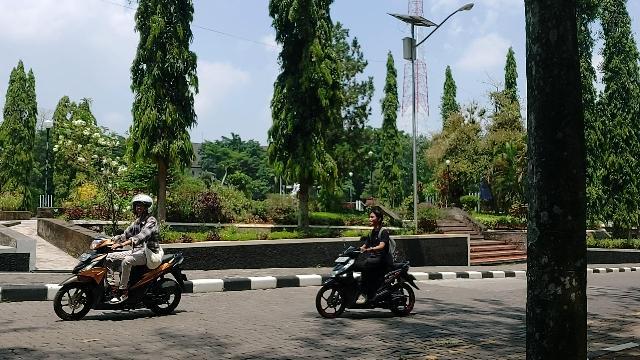helm: (132, 194, 156, 217)
motor: (53, 225, 190, 321), (316, 236, 422, 321)
non-helm: (370, 207, 385, 227)
